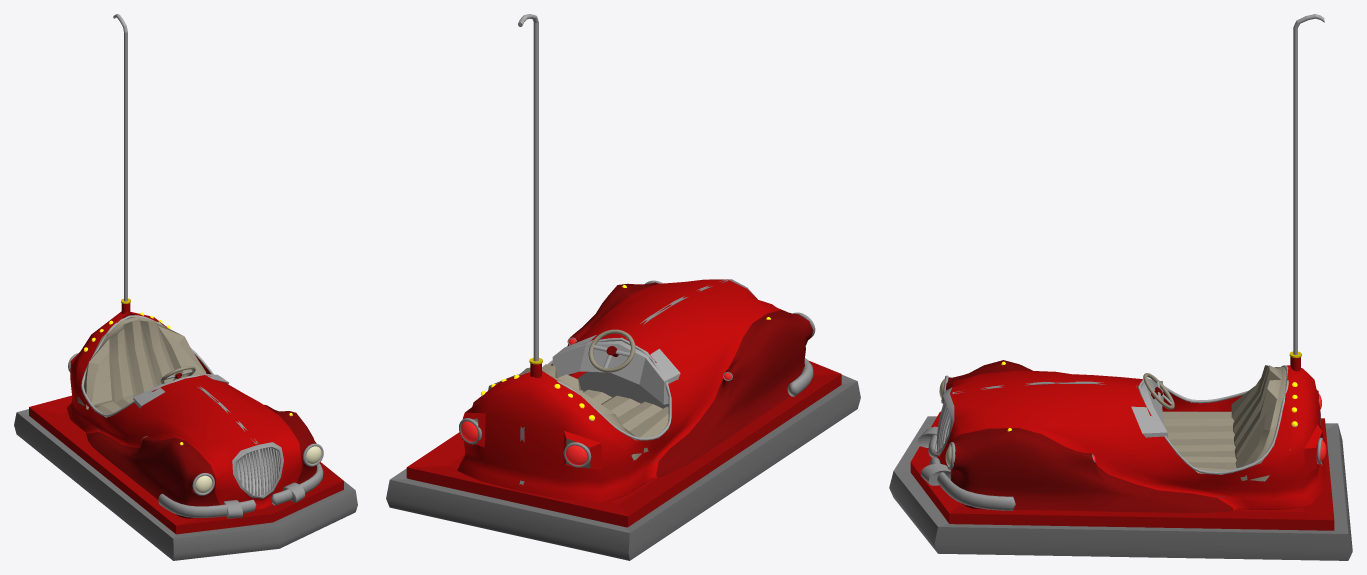
Rendered from uploads_files_873796_BUMPER_CAR.fbx.
3 renders of one model, left to right at view 1: azimuth 30°, elevation 25°; view 2: azimuth 150°, elevation 25°; view 3: azimuth 270°, elevation 25°, orthographic. The views are drawn at different scales.
Visible parts, largest first — view 1: pasted__pasted__RED_CAR; view 2: pasted__pasted__RED_CAR, pasted__pasted__RED_CAR1; view 3: pasted__pasted__RED_CAR.
Part boxes in pixels (x1,y1,x2,y2): pasted__pasted__RED_CAR: (14,14,357,560); pasted__pasted__RED_CAR: (386,14,860,560); pasted__pasted__RED_CAR1: (588,329,635,372); pasted__pasted__RED_CAR: (889,14,1352,560).
Bounding box in the file's own units: 7.12 × 13.7 × 11.73.
